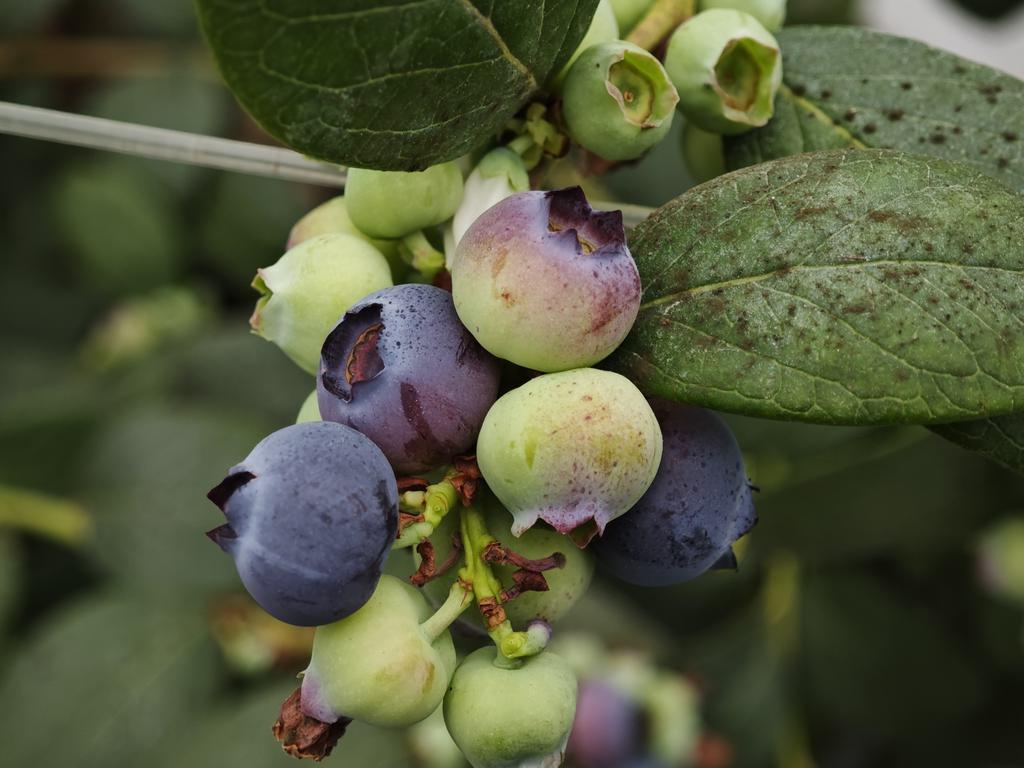RipeBlueBerry: (212, 415, 404, 629), (312, 280, 506, 465)
UnripeBlueBerry: (448, 187, 646, 370), (475, 364, 668, 540)
